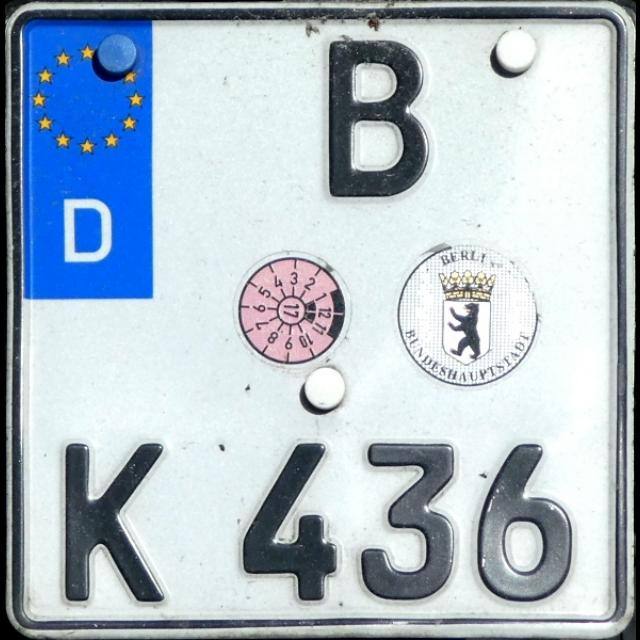d_license_plate: (16, 12, 618, 622)
